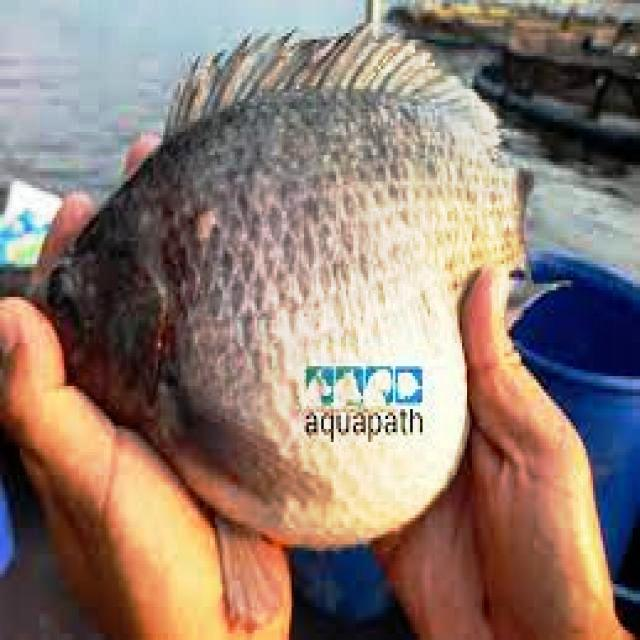Epizootic Ulcerative Syndrome -EUS-: (37, 25, 524, 620), (37, 25, 524, 619)
